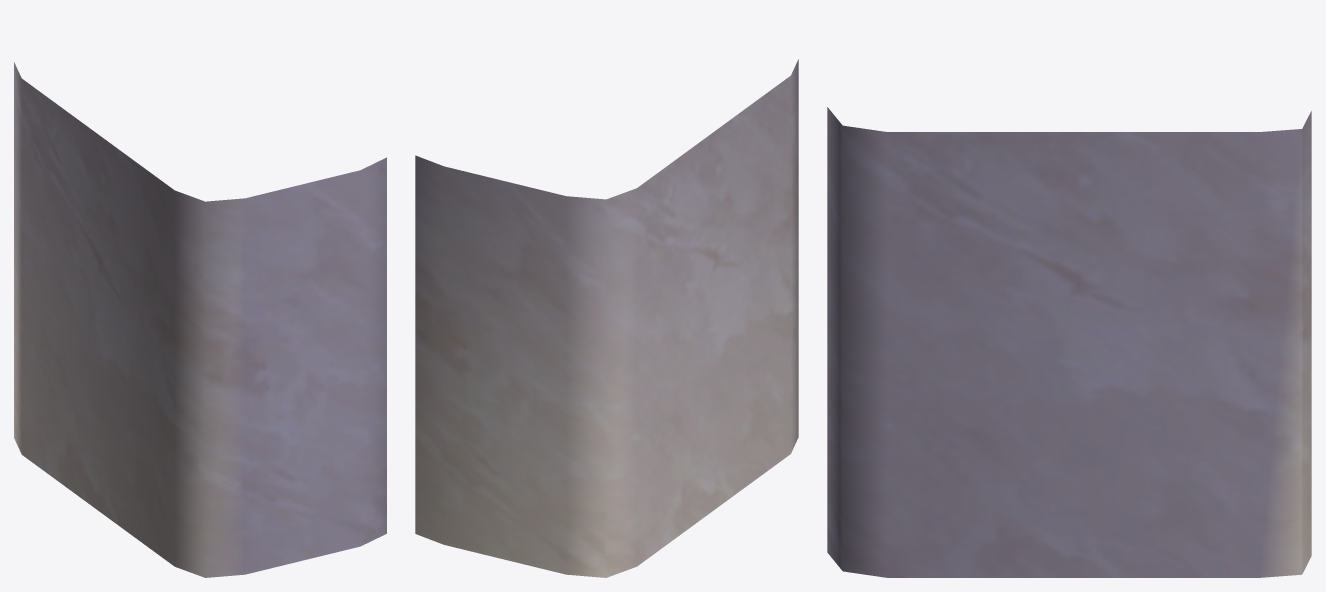
3 views of the same model, side by side, from view 1: azimuth 30°, elevation 25°; view 2: azimuth 150°, elevation 25°; view 3: azimuth 270°, elevation 25° (orthographic). The views are drawn at different scales.
Visible parts, largest first — view 1: Joint_0_Object_0; view 2: Joint_0_Object_0; view 3: Joint_0_Object_0.
Part boxes in pixels (x1,y1,x2,y2): Joint_0_Object_0: [14, 62, 386, 577]; Joint_0_Object_0: [415, 59, 798, 577]; Joint_0_Object_0: [827, 107, 1311, 577].
Size of the model in its own units: 206 by 363 by 357.
Materials: 1 (1 with a texture image).
